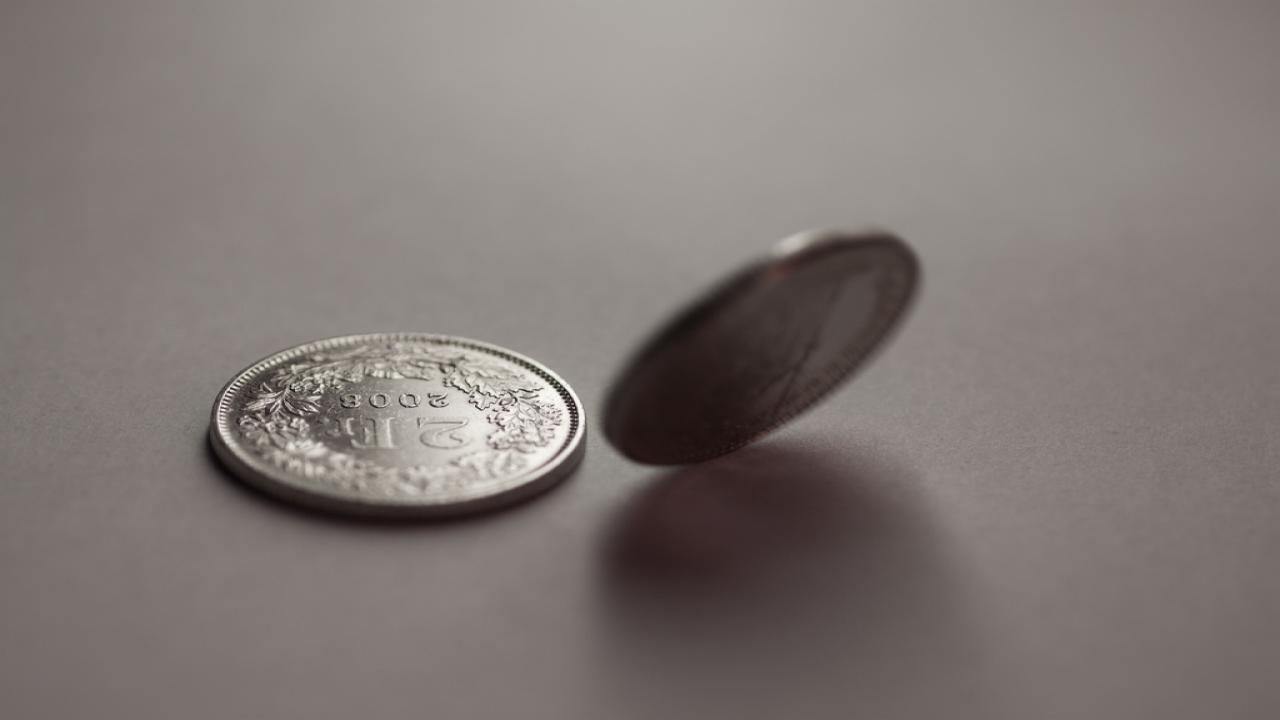coin: (597, 225, 917, 468), (205, 334, 587, 522)
